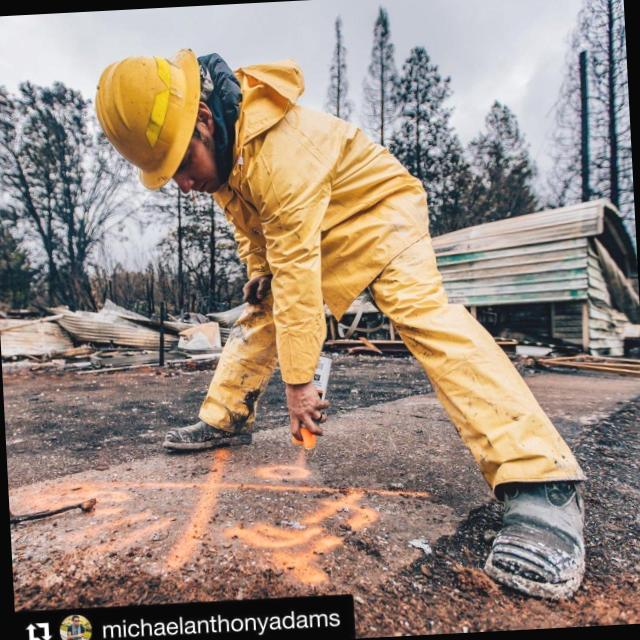helmet: (82, 51, 208, 202)
vest: (223, 83, 418, 314)
